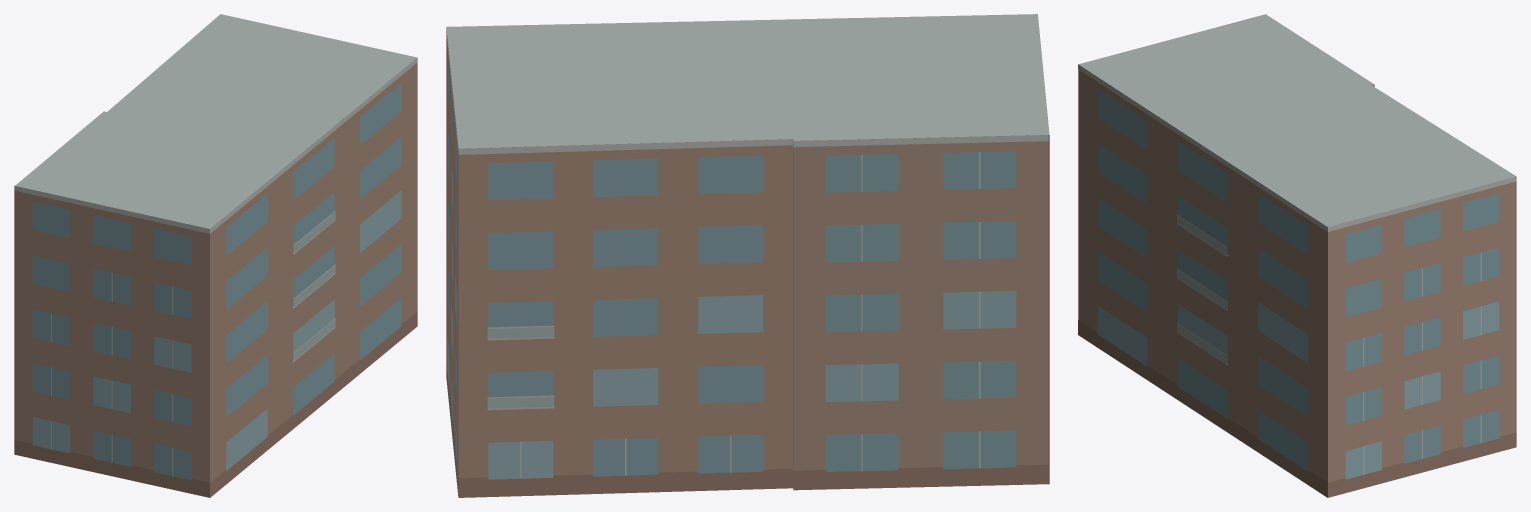
Rendered from survey-upis-32755029.glb.
3 views of the same model, side by side, from view 1: azimuth 30°, elevation 25°; view 2: azimuth 150°, elevation 25°; view 3: azimuth 270°, elevation 25° (orthographic). The views are drawn at different scales.
Visible parts, largest first — view 1: survey-upis-32755029.tmp; view 2: survey-upis-32755029.tmp; view 3: survey-upis-32755029.tmp.
Boxes of the visible parts, x1,y1,x2,y2 form: survey-upis-32755029.tmp: (14,14,417,497); survey-upis-32755029.tmp: (446,14,1049,497); survey-upis-32755029.tmp: (1078,14,1516,497).
Bounding box in the file's own units: 23.04 × 13.64 × 20.03.
